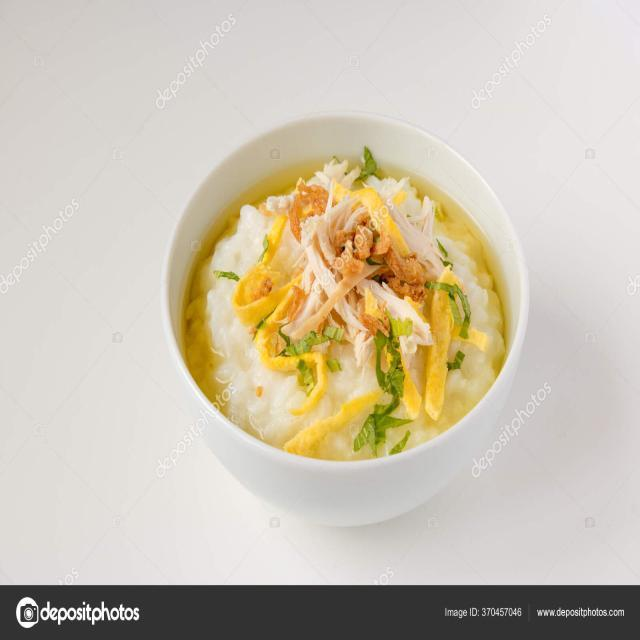bubur ayam: (188, 160, 510, 466)
mangkuk: (160, 112, 530, 530)
